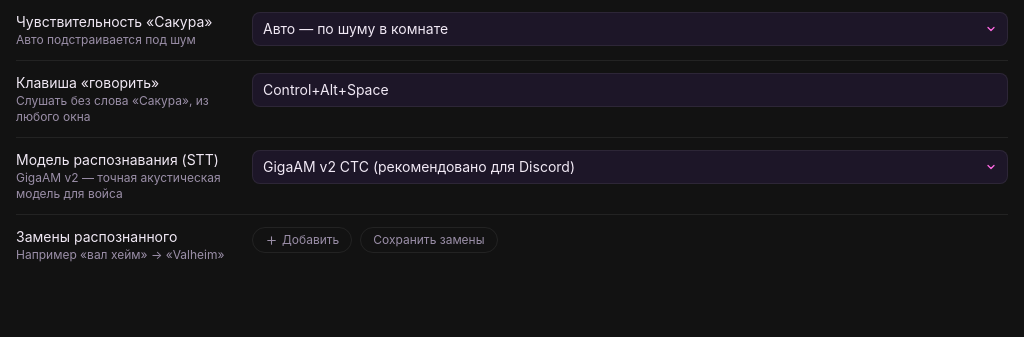
it: голос: замены сохраняются, занятое сочетание «говорить» не сохраняется
Later steps or results of the test are not shown.
Expected: the dropdown named "Чувствительность слова Сакура" is shown, [252,12,1008,46]
Step 1. Click the button "Добавить" → (302, 240), box [252,227,352,253]
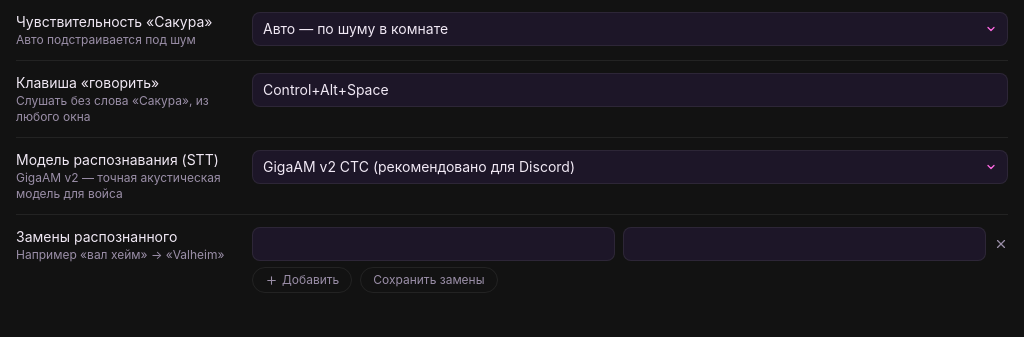
Step 2. Type "вал хейм" into the field named "Распознано 1" → (434, 244), box [252,227,615,261]
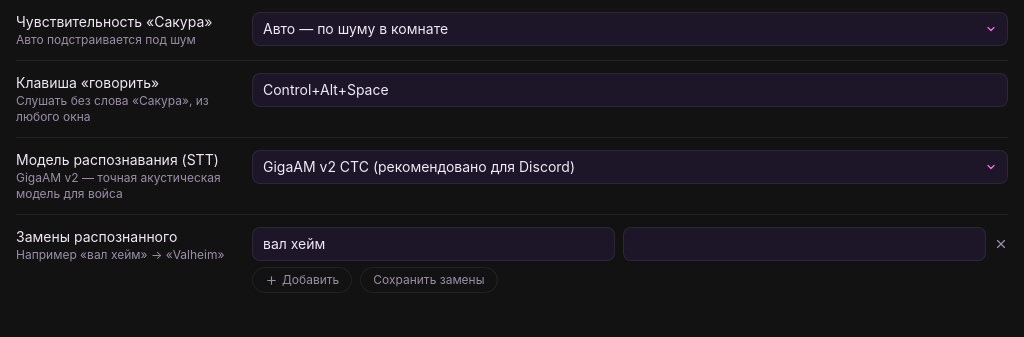
Step 3. Type "Valheim" into the field named "Заменить на 1" → (804, 244), box [623,227,986,261]
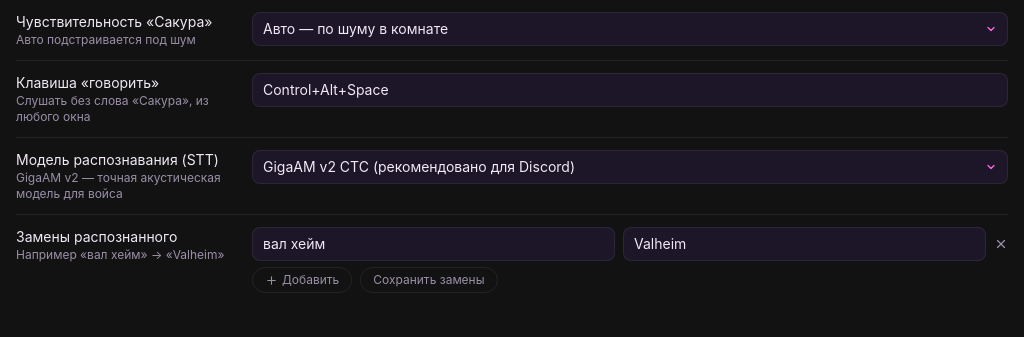
Step 4. Click the button "Сохранить замены" → (429, 280), box [360,267,498,293]
Step 5. Type "Control+Alt+Delete" into the field named "Клавиша говорить" → (630, 90), box [252,73,1008,107]
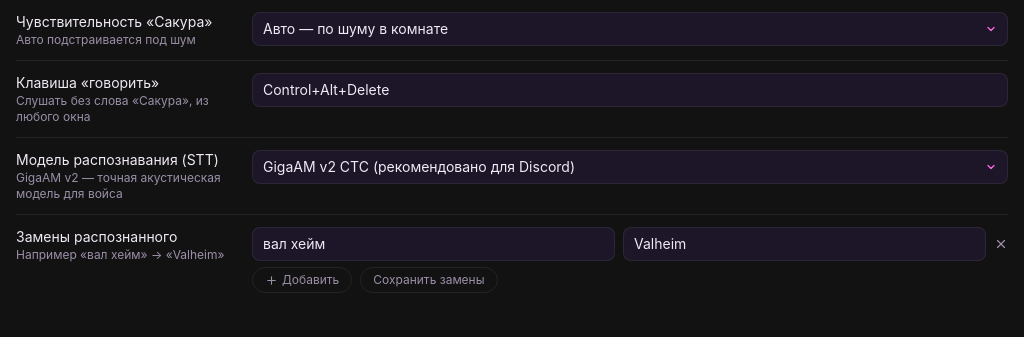
Step 6. Leave the field named "Клавиша говорить", box [252,73,1008,107]
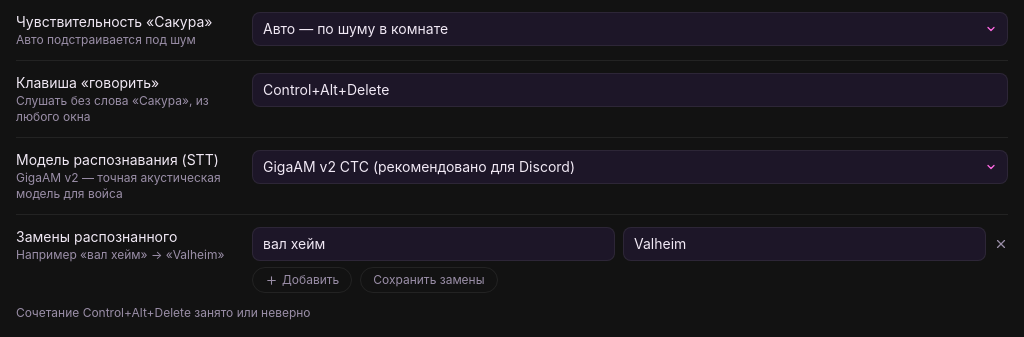
Expected: the message shows "занято", [16,305,310,320]
